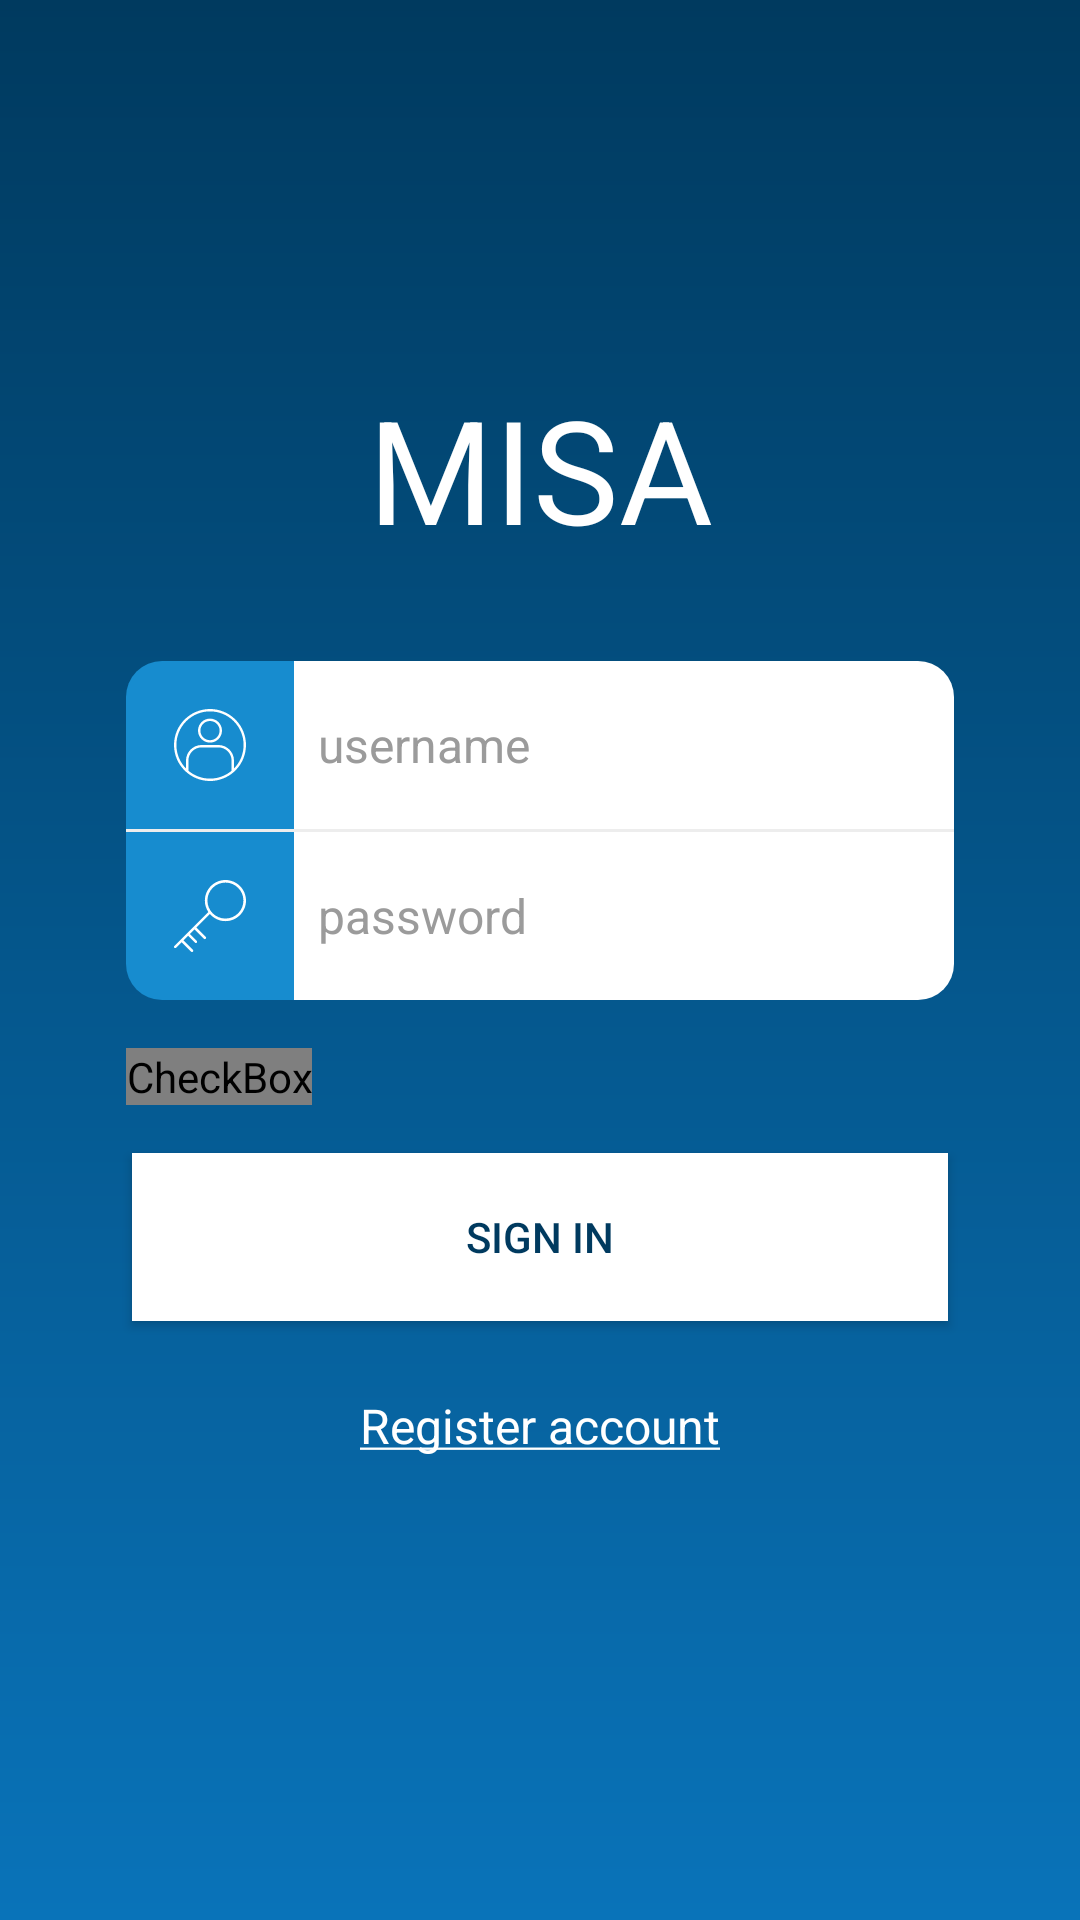

Point at icon controls on the screen. Image size 1080 × 1920, points as (x,y).
key: (210,916)
